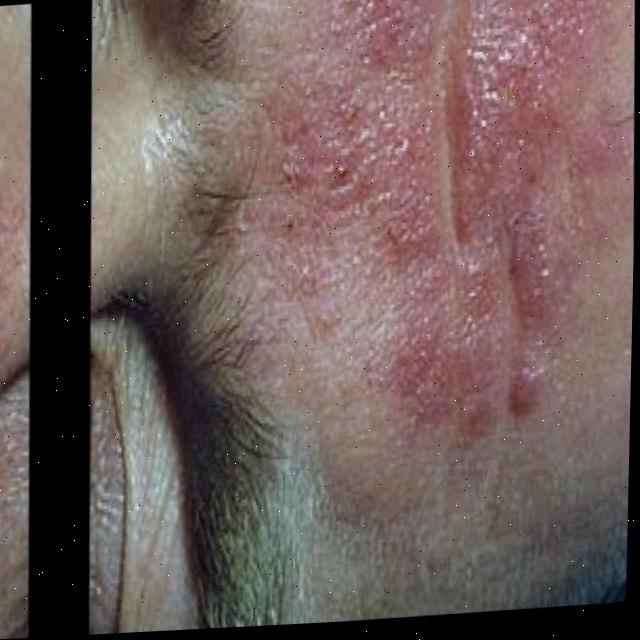Rosacea: (271, 0, 626, 442)
